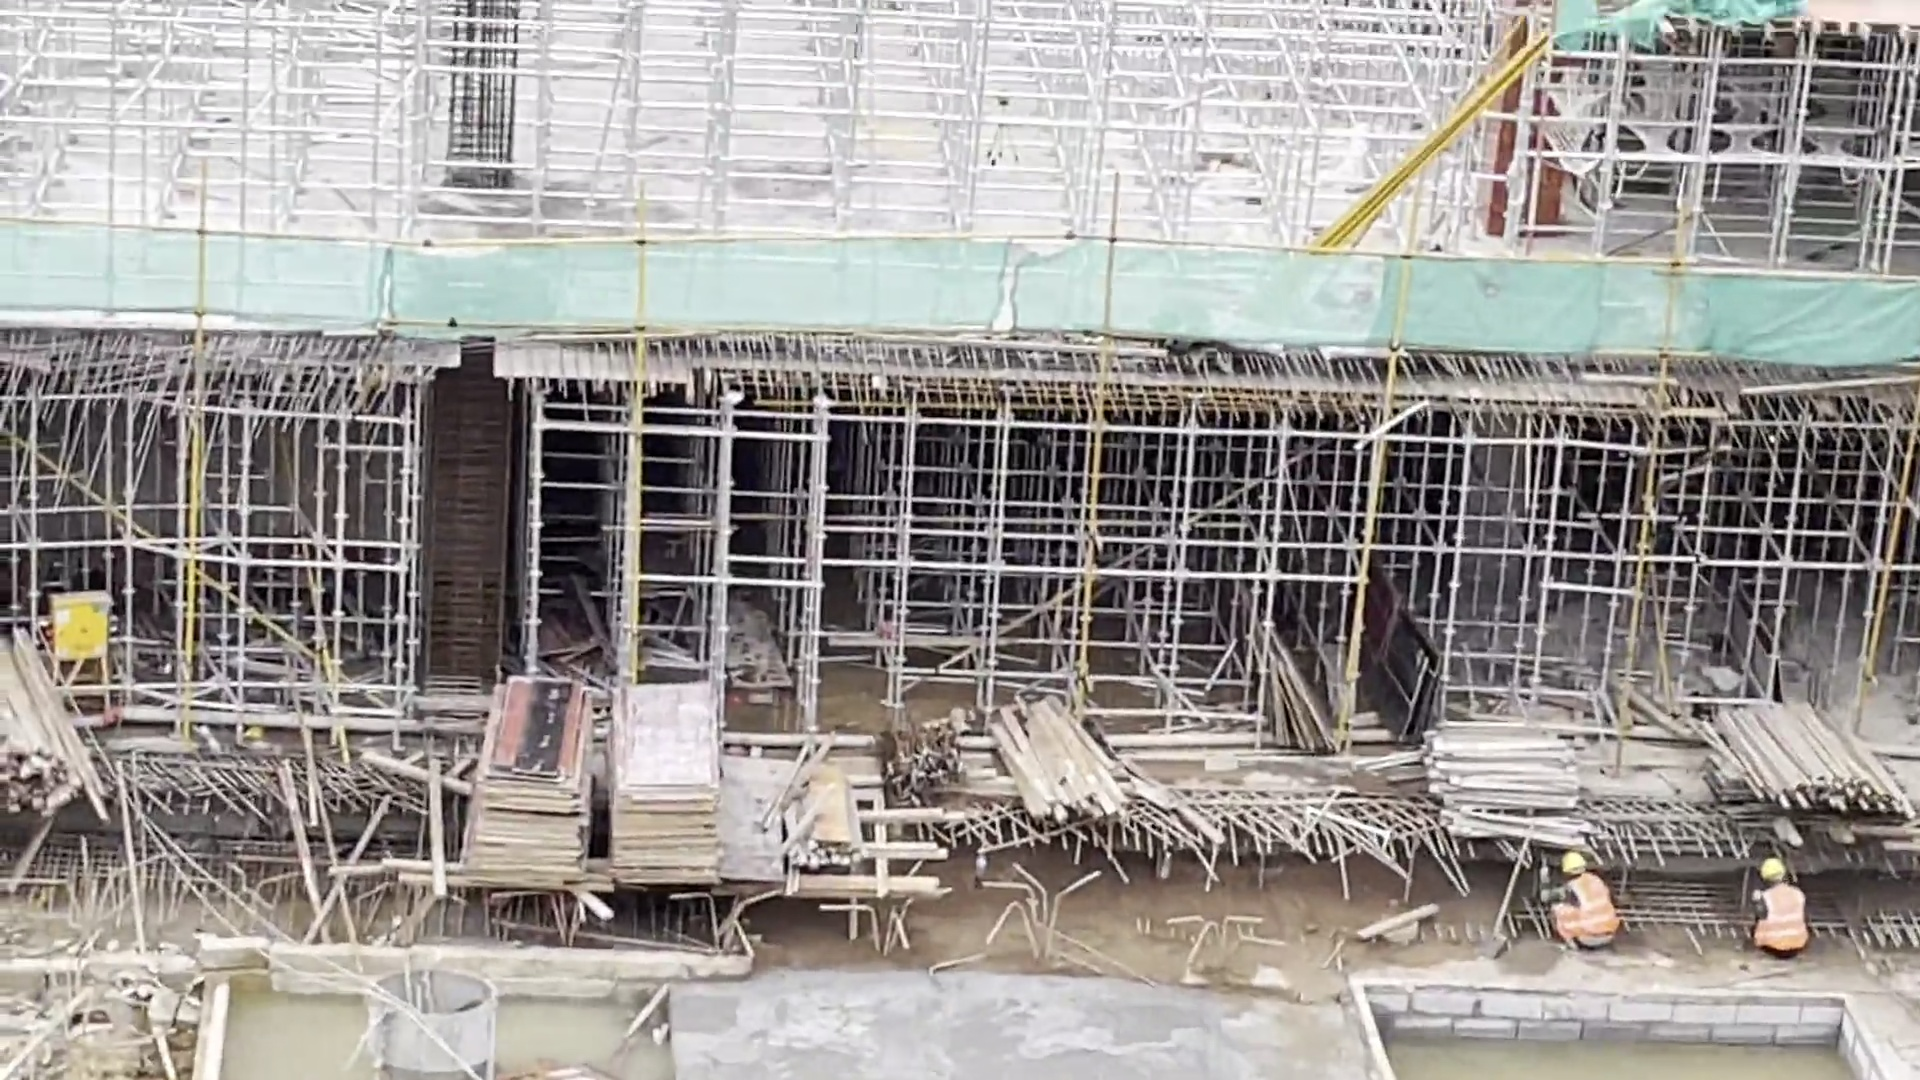board: (456, 669, 727, 895)
helmet: (1564, 849, 1587, 876), (1764, 859, 1788, 878)
person: (1551, 854, 1628, 962), (1746, 855, 1816, 962)
vest: (1556, 878, 1627, 947), (1753, 889, 1818, 963)
wood: (1712, 695, 1910, 823), (1427, 704, 1582, 840), (983, 703, 1127, 824)
